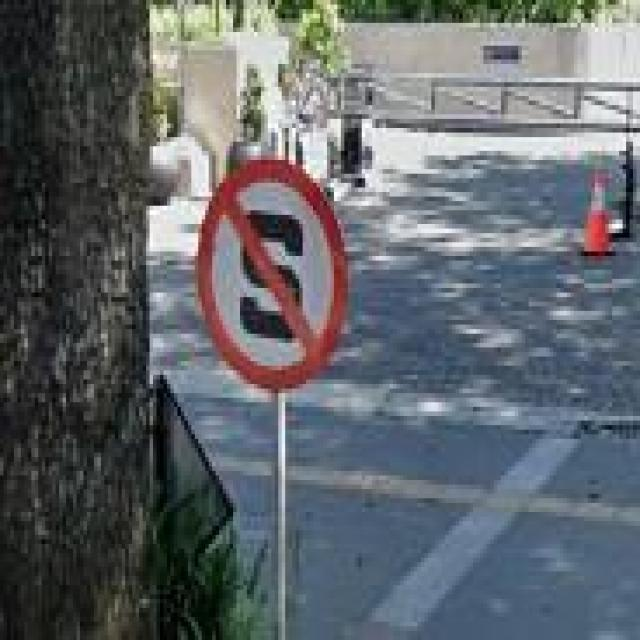traffic sign: (199, 160, 345, 393)
